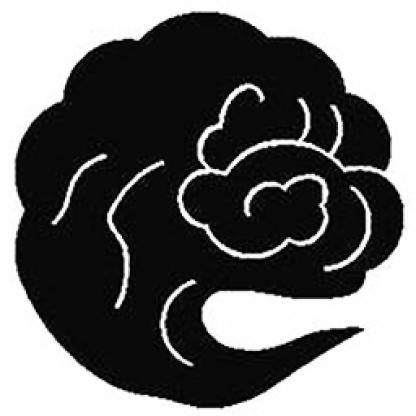kamon: (13, 8, 408, 410)
